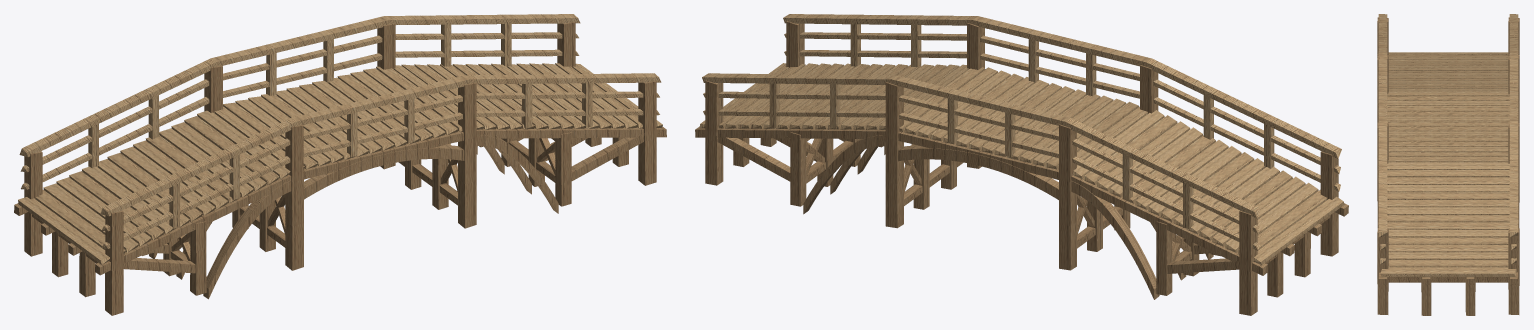
The model's file is puente3.glb.
3 views of the same model, side by side, from view 1: azimuth 30°, elevation 25°; view 2: azimuth 150°, elevation 25°; view 3: azimuth 270°, elevation 25° (orthographic). The views are drawn at different scales.
Parts seen in each view (by area): view 1: Puente_Madera_Tablero_Tablones, Puente_Madera_Barandillas, Puente_Madera_Pilotes_Y_Refuerzos, Puente_Madera_Arcos_Curvos, Puente_Madera_Largueros; view 2: Puente_Madera_Tablero_Tablones, Puente_Madera_Barandillas, Puente_Madera_Pilotes_Y_Refuerzos, Puente_Madera_Arcos_Curvos, Puente_Madera_Largueros; view 3: Puente_Madera_Tablero_Tablones, Puente_Madera_Barandillas, Puente_Madera_Pilotes_Y_Refuerzos, Puente_Madera_Largueros.
Boxes of the visible parts, x1,y1,x2,y2 form: Puente_Madera_Tablero_Tablones: (18, 63, 662, 264); Puente_Madera_Barandillas: (19, 14, 661, 248); Puente_Madera_Pilotes_Y_Refuerzos: (24, 22, 656, 315); Puente_Madera_Arcos_Curvos: (149, 135, 558, 299); Puente_Madera_Largueros: (14, 126, 666, 275); Puente_Madera_Tablero_Tablones: (699, 63, 1344, 264); Puente_Madera_Barandillas: (702, 14, 1341, 250); Puente_Madera_Pilotes_Y_Refuerzos: (705, 21, 1338, 315); Puente_Madera_Arcos_Curvos: (803, 135, 1213, 299); Puente_Madera_Largueros: (695, 126, 1348, 275); Puente_Madera_Tablero_Tablones: (1380, 52, 1516, 276); Puente_Madera_Barandillas: (1378, 14, 1518, 264); Puente_Madera_Pilotes_Y_Refuerzos: (1377, 17, 1519, 315); Puente_Madera_Largueros: (1379, 272, 1517, 285).
Size of the model in its own units: 11.49 by 3.03 by 3.08.
5 materials, 5 textured.
